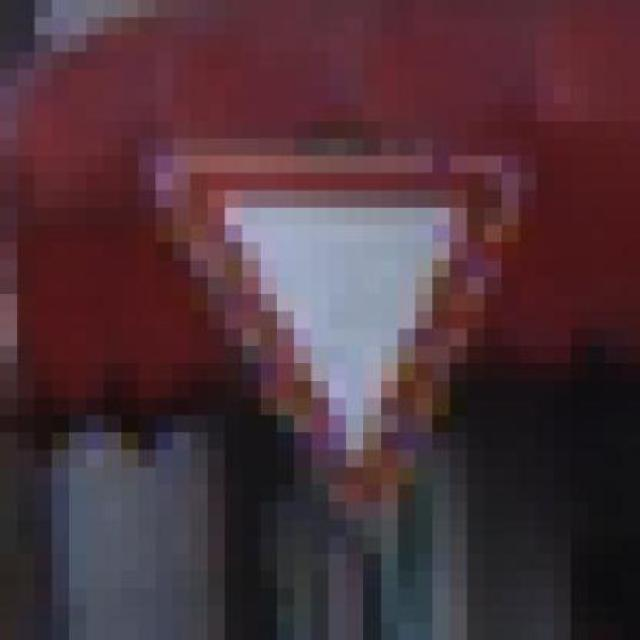Give Way: (103, 86, 571, 571)
